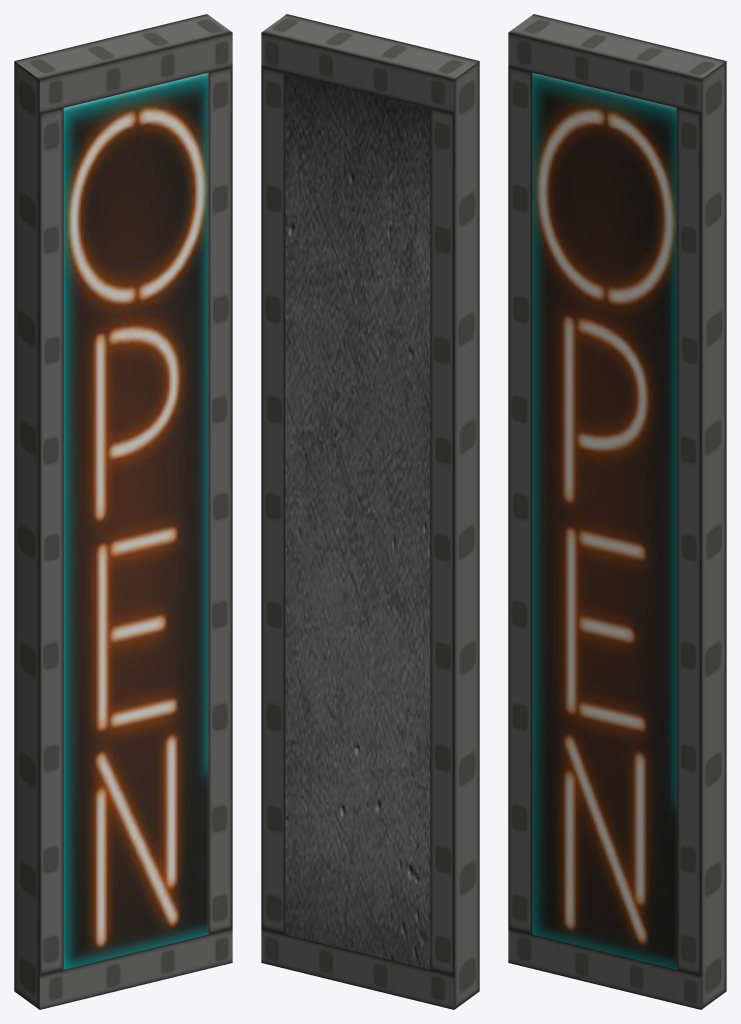
The model's file is sign board20.FBX.
3 views of the same model, side by side, from view 1: azimuth 30°, elevation 25°; view 2: azimuth 150°, elevation 25°; view 3: azimuth 330°, elevation 25° (orthographic).
Visible parts, largest first — view 1: sign board20; view 2: sign board20; view 3: sign board20.
Boxes of the visible parts, x1,y1,x2,y2 form: sign board20: (14,14,232,1009); sign board20: (261,14,479,1009); sign board20: (508,14,726,1009).
Bounding box in the file's own units: 2.6 × 12 × 0.5925.
